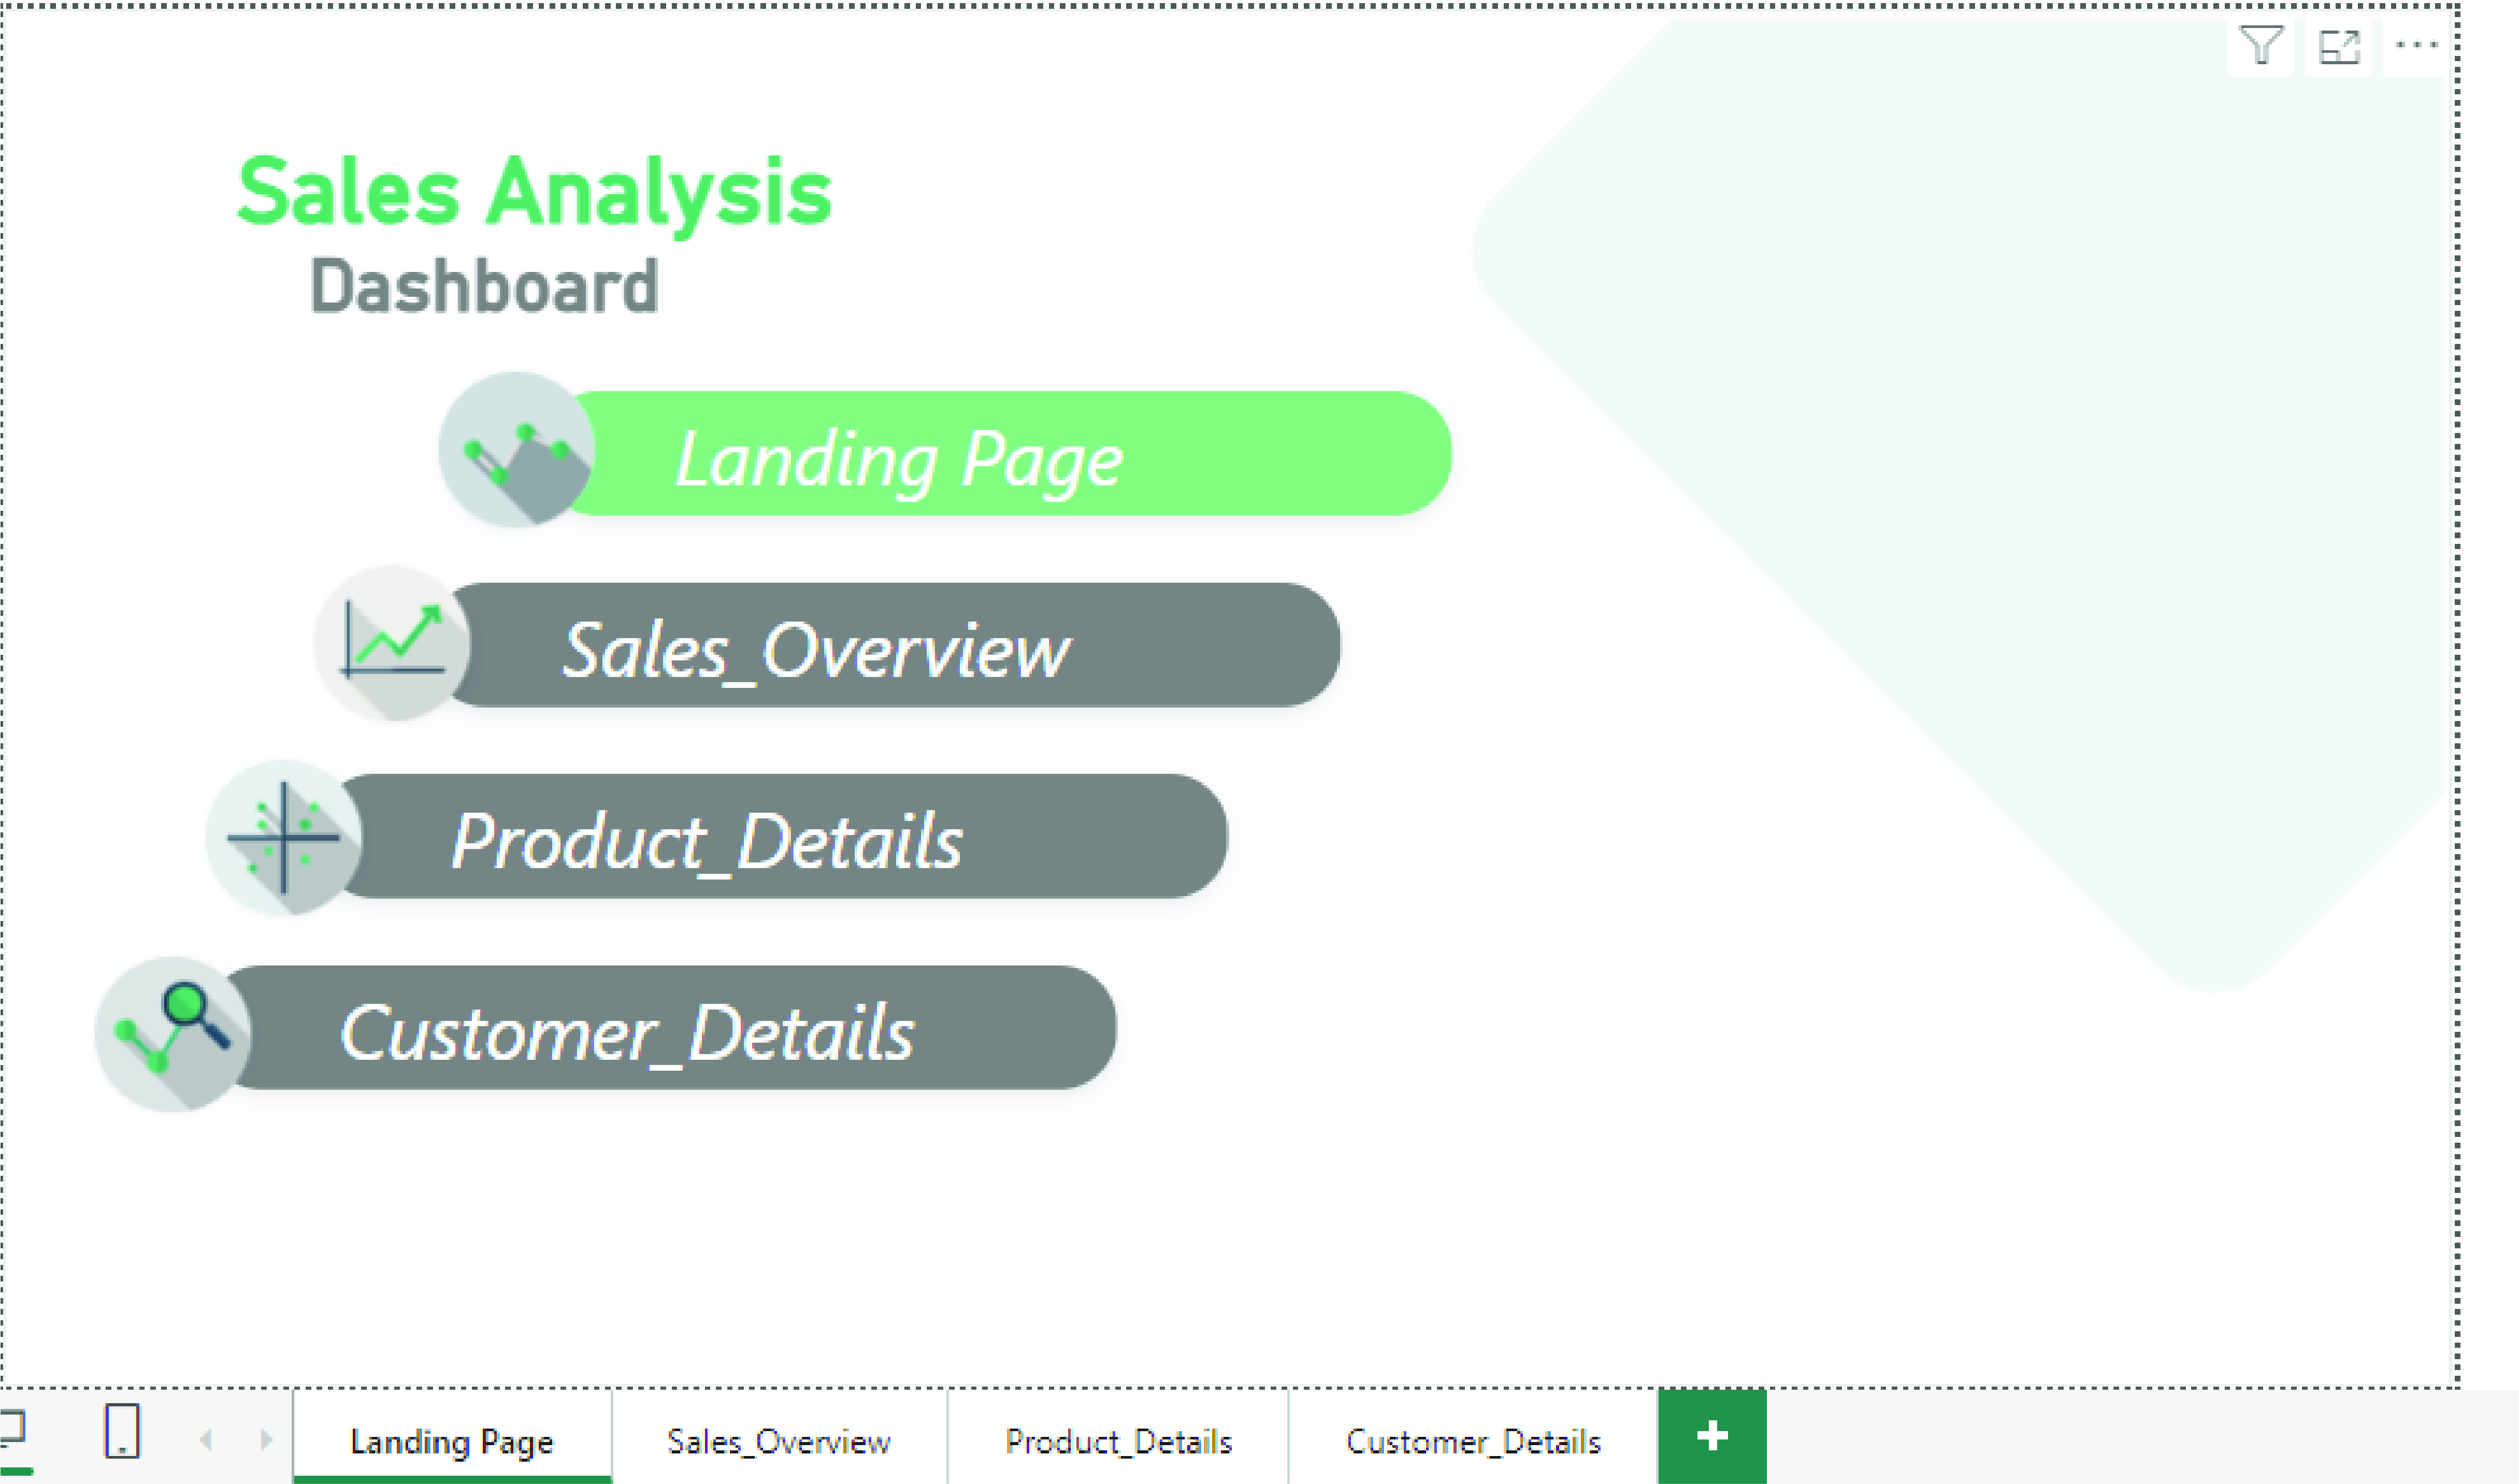

This screenshot's page, from the dashboard's own definition file:
{"tool":"powerbi","page":{"name":"Landing Page ","canvas":[1280,720],"ordinal":0},"visuals":[{"type":"htmlContent443BE3AD55E043BF878BED274D3A6855","fields":{"content":["measure.styleLandingPageHTML"]},"box":[0,0,1280,720],"z":0},{"type":"actionButton","box":[223.3,185,90,90],"z":1000},{"type":"actionButton","box":[158.3,286.7,90,90],"z":2000},{"type":"actionButton","box":[101.7,388.3,90,90],"z":3000},{"type":"actionButton","box":[43.3,491.7,90,90],"z":4000},{"type":"actionButton","title":"Sales Analysis","box":[121.7,66.7,560,78.3],"z":5000},{"type":"actionButton","title":"Dashboard","box":[160,121.7,560,78.3],"z":6000}]}

Visuals, with their boxes on the page's 1280x720 design canvas (x1, y1, x2, y2). These are canvas units, not pixel positions in the 2519x1484 screenshot, which may show the page scaled, cropped or inside an application window:
htmlContent443BE3AD55E043BF878BED274D3A6855 - measure.styleLandingPageHTML: <box>0,0,1280,720</box>
actionButton: <box>223,185,313,275</box>
actionButton: <box>158,287,248,377</box>
actionButton: <box>102,388,192,478</box>
actionButton: <box>43,492,133,582</box>
"Sales Analysis" actionButton: <box>122,67,682,145</box>
"Dashboard" actionButton: <box>160,122,720,200</box>
